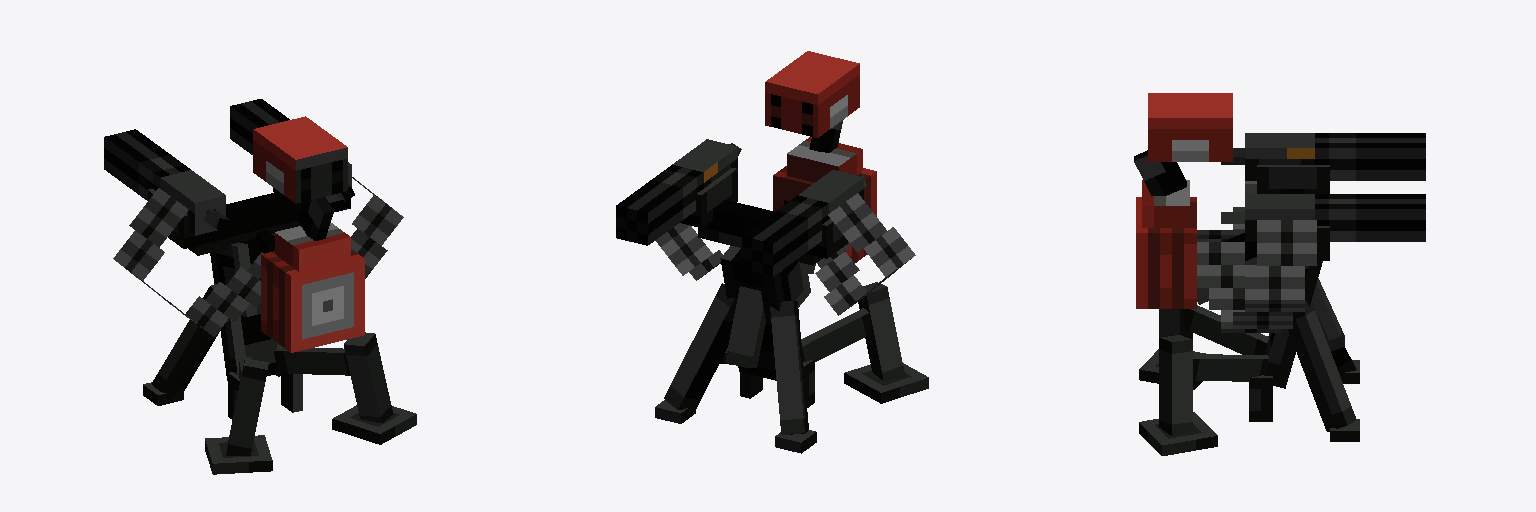
The picture shows the model from 3 angles: view 1: azimuth 30°, elevation 25°; view 2: azimuth 150°, elevation 25°; view 3: azimuth 270°, elevation 25°; orthographic projection.
Parts seen in each view (by area): view 1: ammobox, ammochain, minigun, largebackleg, head, backfoot, pivot, frontleg, backleg, legbox, lvlleg, minigunsupport (+1 smaller); view 2: minigun, frontleg, ammochain, head, largebackleg, pivot, ammobox, legbox, minigunsupport, backfoot, foot, lvlleg (+2 smaller); view 3: minigun, ammochain, largebackleg, ammobox, head, frontleg, minigunsupport, backfoot, pivot, support, backleg, lvlleg (+2 smaller).
Boxes of the visible parts, <box> form: ammobox: <box>261,223,364,352</box>; ammochain: <box>113,177,403,336</box>; minigun: <box>104,99,351,235</box>; largebackleg: <box>226,332,393,455</box>; head: <box>253,116,347,203</box>; backfoot: <box>205,405,416,474</box>; pivot: <box>188,192,300,255</box>; frontleg: <box>152,284,219,398</box>; backleg: <box>220,314,281,380</box>; legbox: <box>210,234,274,316</box>; lvlleg: <box>228,372,302,419</box>; minigunsupport: <box>148,188,350,248</box>; minigun: <box>616,139,863,276</box>; frontleg: <box>664,283,808,434</box>; ammochain: <box>655,193,915,315</box>; head: <box>765,51,859,137</box>; largebackleg: <box>801,282,905,380</box>; pivot: <box>698,200,822,367</box>; ammobox: <box>773,137,876,262</box>; legbox: <box>720,246,810,324</box>; minigunsupport: <box>680,168,848,258</box>; backfoot: <box>720,348,928,403</box>; foot: <box>655,400,816,453</box>; lvlleg: <box>740,359,814,407</box>; minigun: <box>1245,133,1425,241</box>; ammochain: <box>1197,181,1316,332</box>; largebackleg: <box>1159,305,1268,436</box>; ammobox: <box>1136,180,1196,308</box>; head: <box>1148,93,1232,161</box>; frontleg: <box>1288,300,1356,431</box>; minigunsupport: <box>1257,165,1329,260</box>; backfoot: <box>1139,349,1217,455</box>; pivot: <box>1197,189,1344,351</box>; support: <box>1134,150,1186,195</box>; backleg: <box>1264,329,1295,388</box>; lvlleg: <box>1249,375,1272,421</box>.
Size of the model in its own units: 1.56 by 1.72 by 1.51.
Materials: 2 (2 with a texture image).